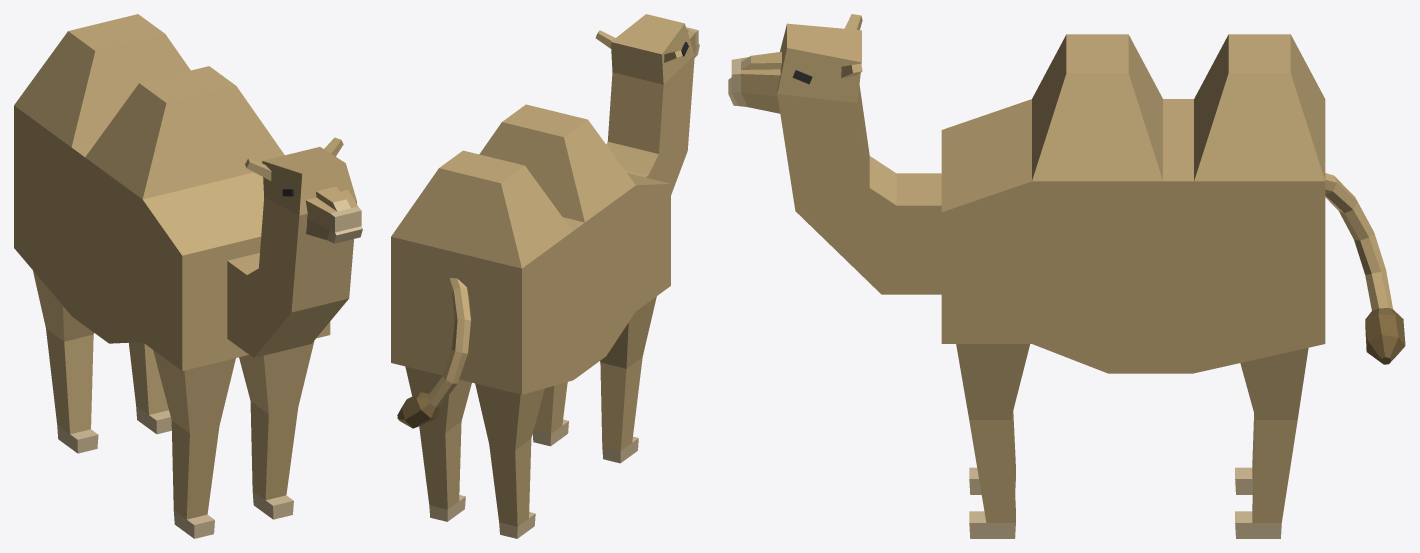
File: camel.fbx
3 views of the same model, side by side, from view 1: azimuth 30°, elevation 25°; view 2: azimuth 150°, elevation 25°; view 3: azimuth 270°, elevation 25° (orthographic). The views are drawn at different scales.
Parts seen in each view (by area): view 1: camel; view 2: camel; view 3: camel.
Boxes of the visible parts, <box> form: camel: <box>14,14,362,538</box>; camel: <box>391,14,699,538</box>; camel: <box>728,14,1405,538</box>.
Bounding box in the file's own units: 4717 × 16391 × 12710.
